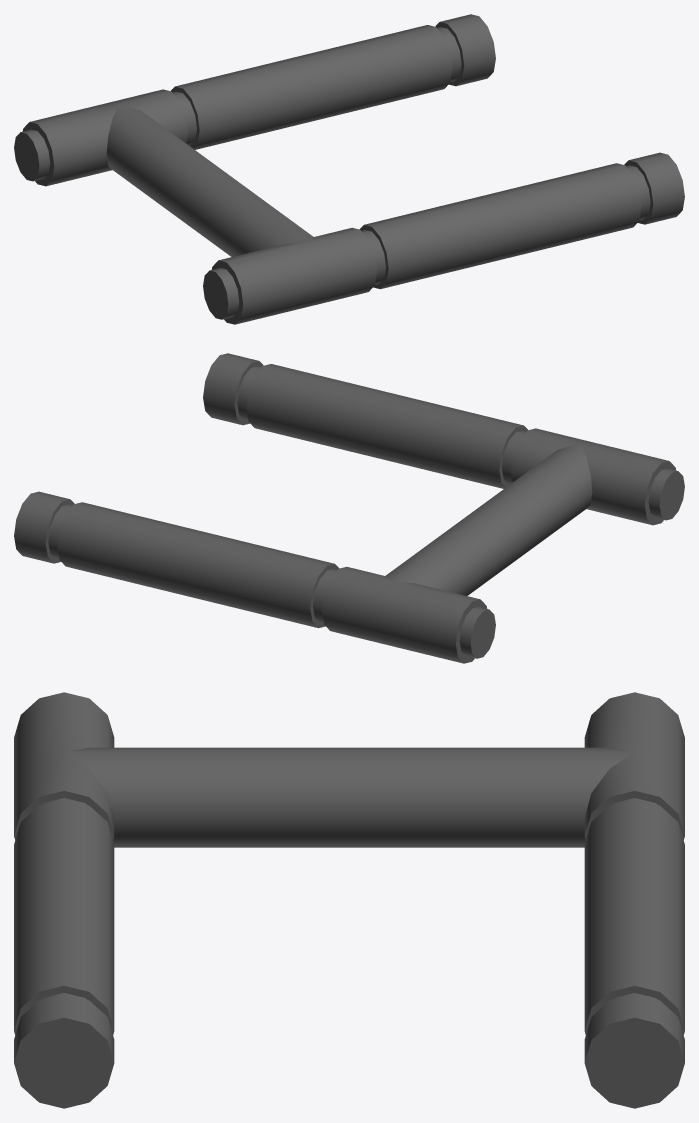
The model's file is Doorway_Double_7_doorway_handle_7.obj.
3 views of the same model, one above another, from view 1: azimuth 30°, elevation 25°; view 2: azimuth 150°, elevation 25°; view 3: azimuth 270°, elevation 25° (orthographic). The views are drawn at different scales.
Bounding box in the file's own units: 0.2074 × 0.0264 × 0.1764.
